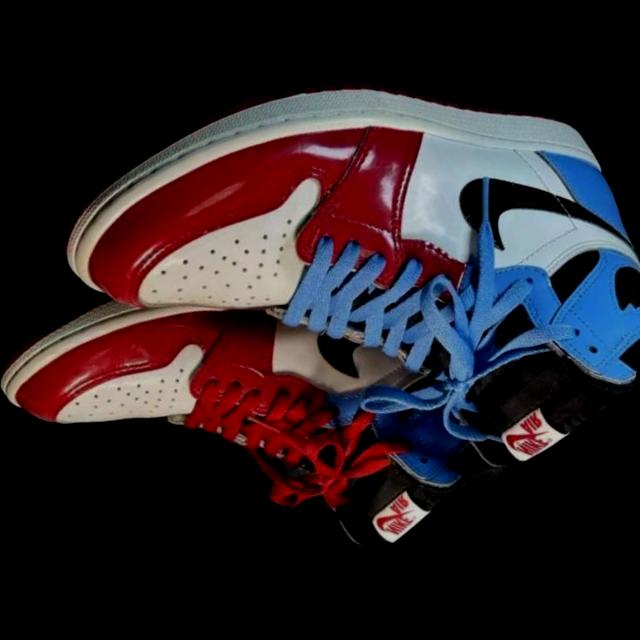nike_original_jordan: (0, 0, 640, 640), (0, 86, 601, 640)
